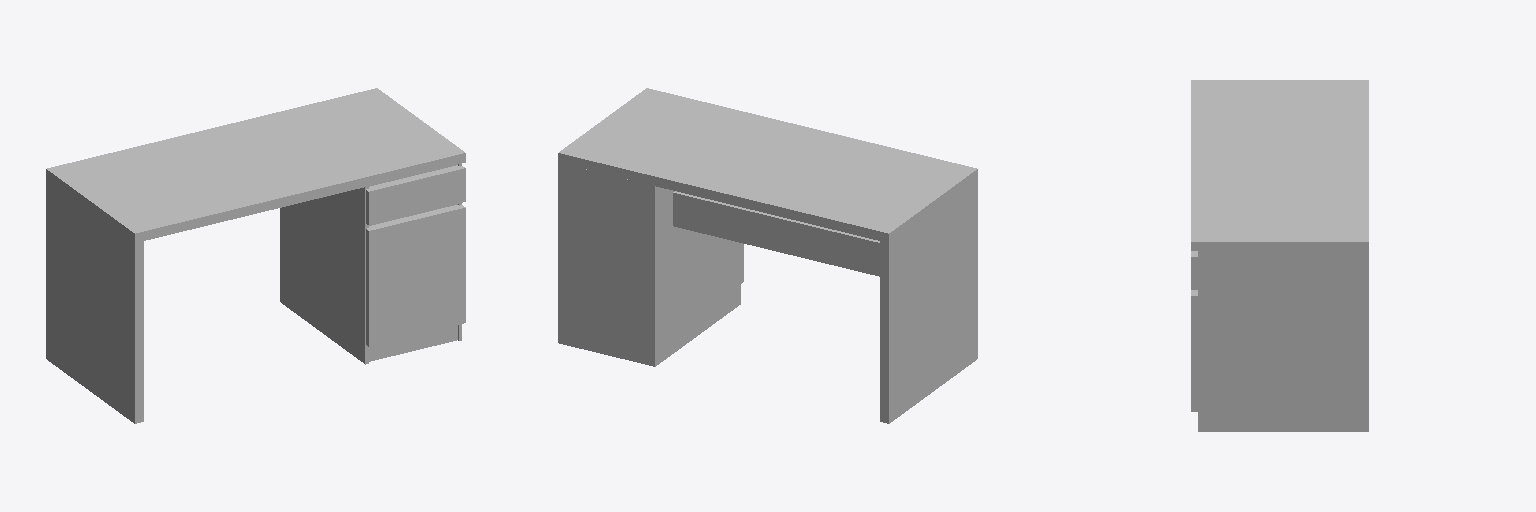
Rendered from МАЛЬМ.obj.
3 views of the same model, side by side, from view 1: azimuth 30°, elevation 25°; view 2: azimuth 150°, elevation 25°; view 3: azimuth 270°, elevation 25° (orthographic).
Visible parts, largest first — view 1: Cube.009_Cube.010; view 2: Cube.009_Cube.010; view 3: Cube.009_Cube.010.
Part boxes in pixels (x1,y1,x2,y2): Cube.009_Cube.010: (46,88,465,423); Cube.009_Cube.010: (558,88,977,423); Cube.009_Cube.010: (1191,80,1368,431).
Bounding box in the file's own units: 2.8 × 1.54 × 1.3.